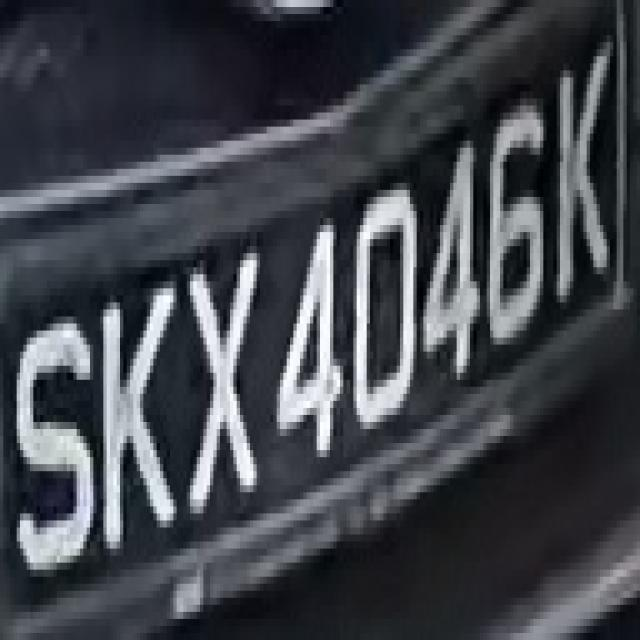0: (340, 162, 423, 450)
4: (274, 148, 344, 478), (414, 113, 484, 429)
6: (480, 78, 553, 338)
K: (94, 260, 184, 570), (560, 21, 617, 331)
S: (10, 302, 90, 584)
X: (180, 218, 270, 520)
